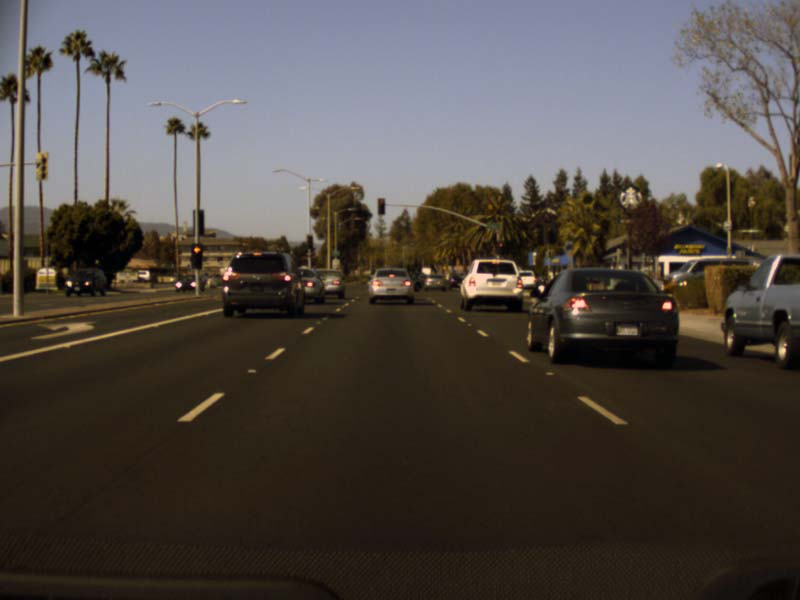Red: (191, 244, 202, 269), (544, 224, 555, 245), (497, 241, 504, 254), (378, 197, 383, 214)
